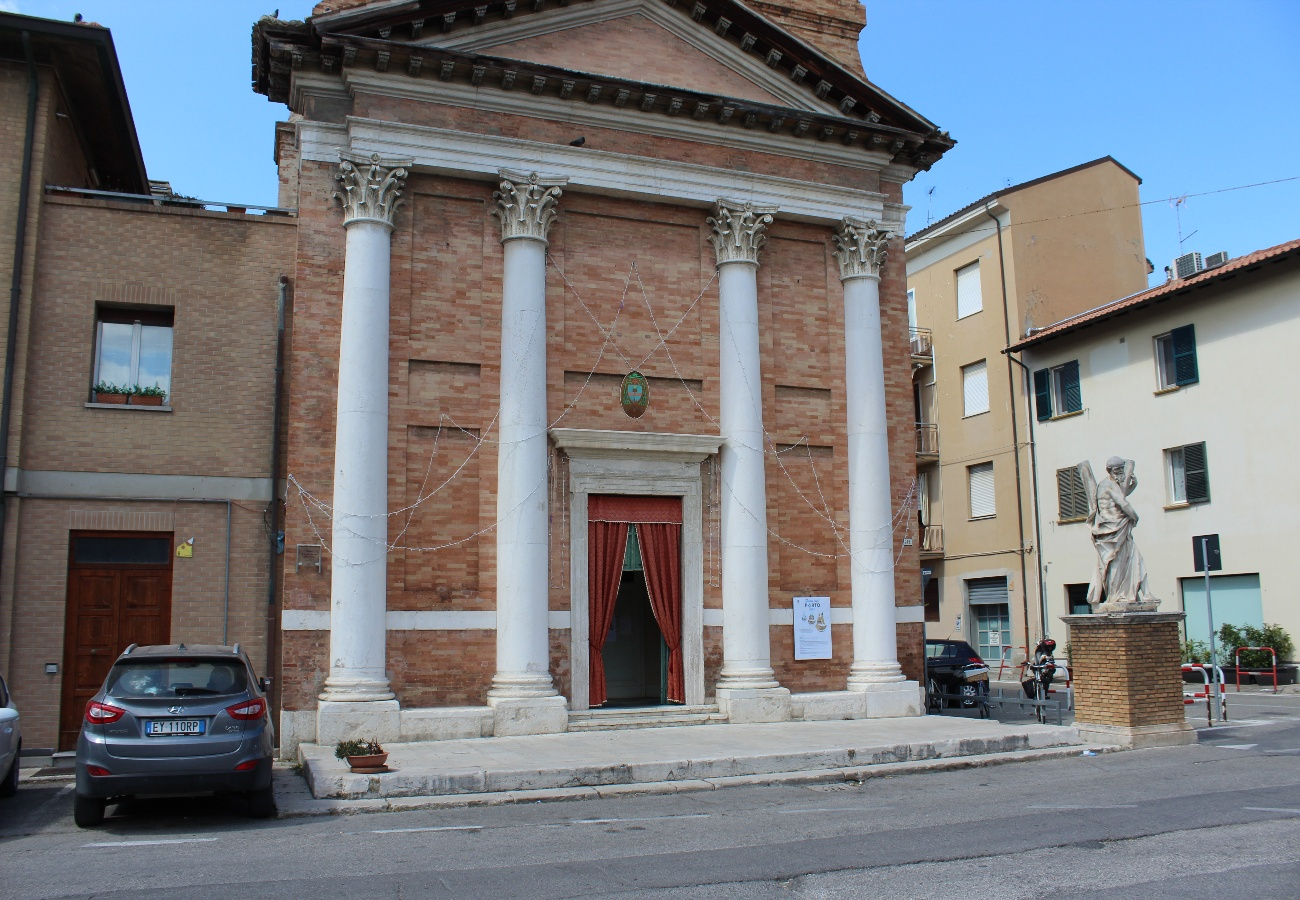Parrocchia Santa Maria: (244, 15, 962, 762)
